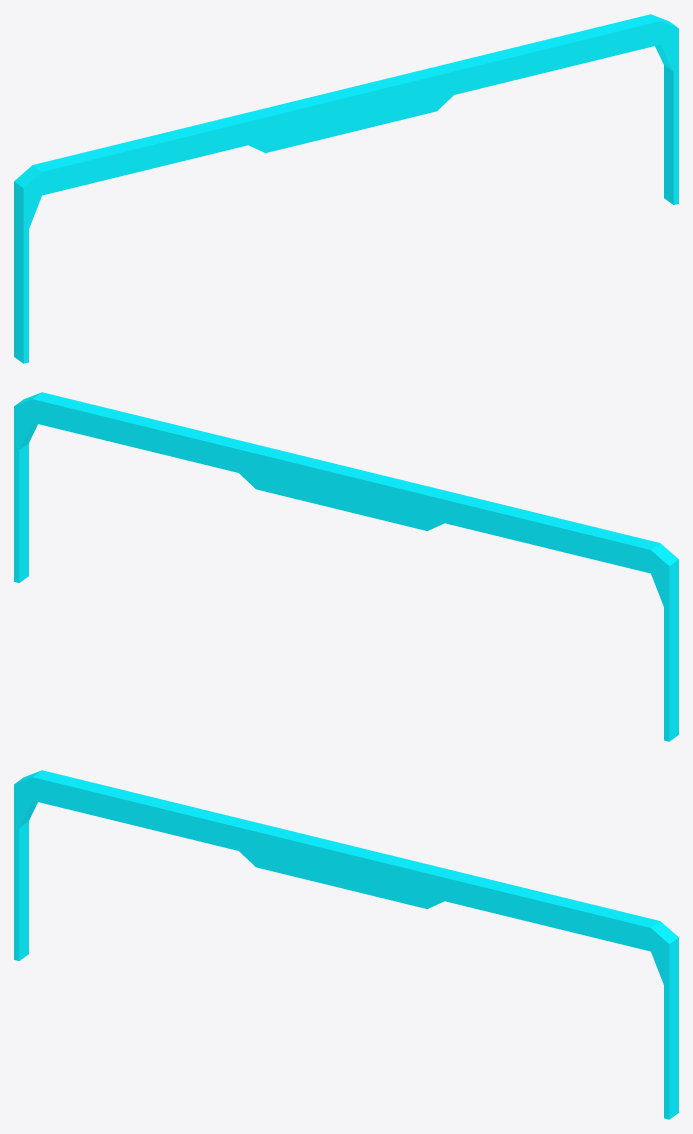
File: SM_Hud_Barrier_01.glb
3 views of the same model, one above another, from view 1: azimuth 30°, elevation 25°; view 2: azimuth 150°, elevation 25°; view 3: azimuth 330°, elevation 25° (orthographic).
Visible parts, largest first — view 1: SM_Hud_Barrier_01; view 2: SM_Hud_Barrier_01; view 3: SM_Hud_Barrier_01.
Boxes of the visible parts, x1,y1,x2,y2 form: SM_Hud_Barrier_01: [14, 14, 678, 363]; SM_Hud_Barrier_01: [14, 392, 678, 741]; SM_Hud_Barrier_01: [14, 770, 678, 1119].
Bounding box in the file's own units: 0.6282 × 0.1714 × 0.0158.
